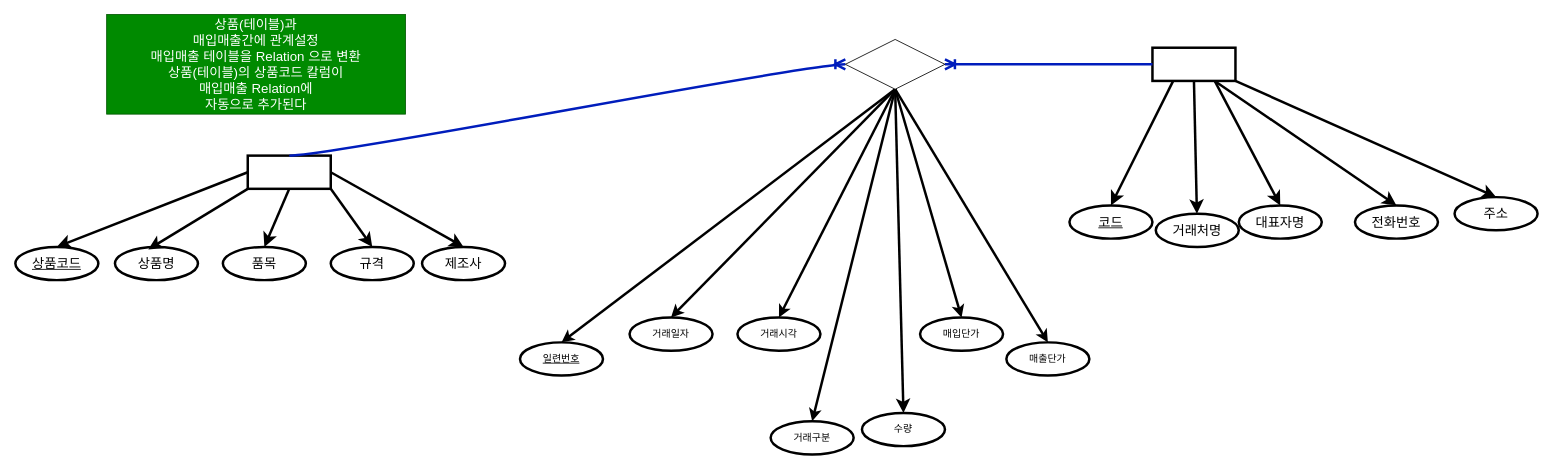
Some shapes in this 1553 by 470 pixel diagram are drawn without their labels. The box of each missing label's shape, as (x1, y1, x2, y2) in pixels:
거래처: (1151, 46, 1236, 82)
매입매출: (845, 39, 945, 89)
상품: (246, 154, 332, 190)
